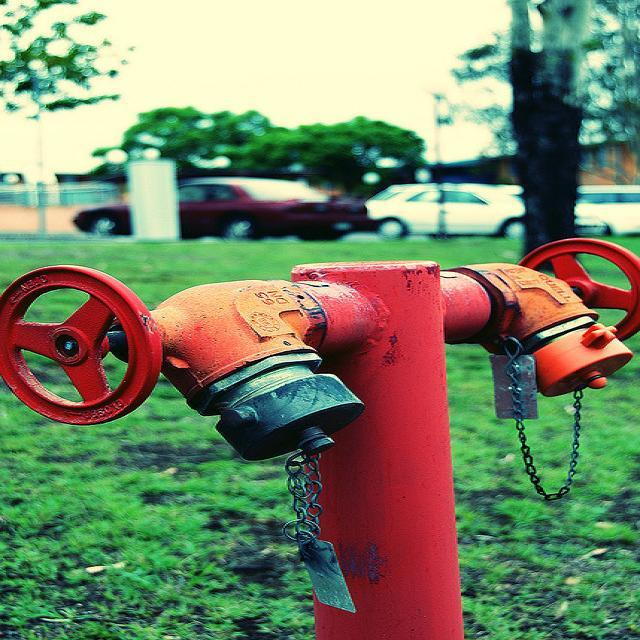fire_hydrant: (3, 238, 640, 628)
